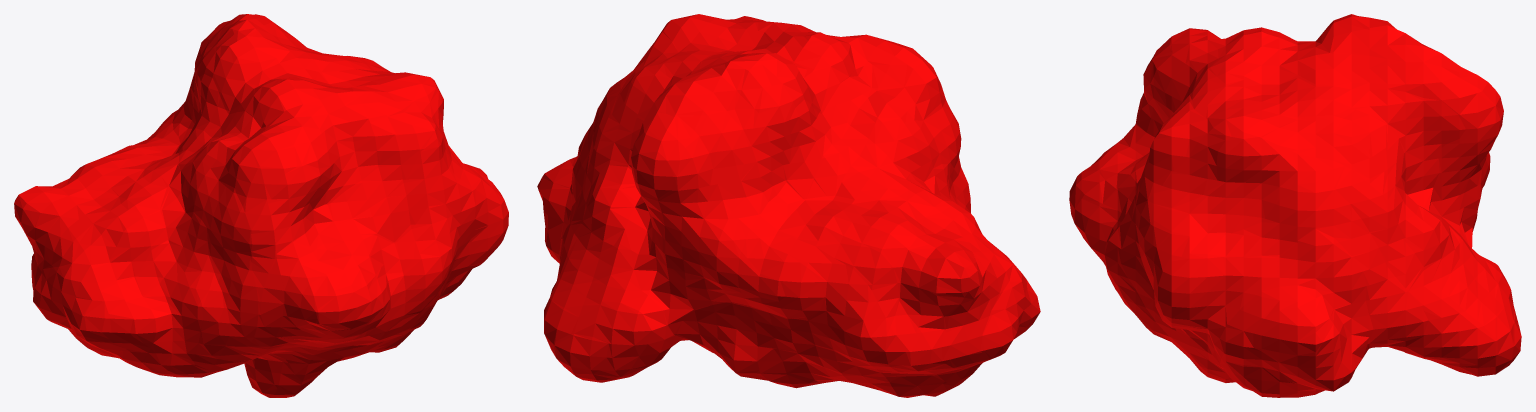
The model's file is tdcE_coarse.dae.
3 views of the same model, side by side, from view 1: azimuth 30°, elevation 25°; view 2: azimuth 150°, elevation 25°; view 3: azimuth 270°, elevation 25° (orthographic). The views are drawn at different scales.
Parts seen in each view (by area): view 1: tdcE; view 2: tdcE; view 3: tdcE.
Part boxes in pixels (box(x1,y1,x2,y2)): tdcE: box(14, 14, 508, 397); tdcE: box(537, 14, 1040, 397); tdcE: box(1069, 14, 1521, 397).
Bounding box in the file's own units: 90.81 × 62.82 × 73.17.
